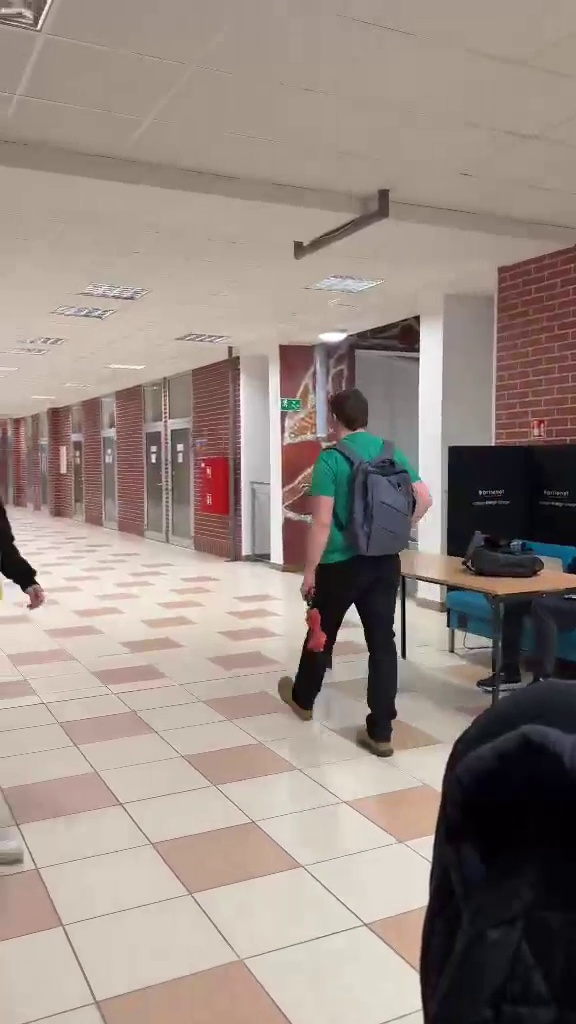no vest: (279, 384, 440, 735)
